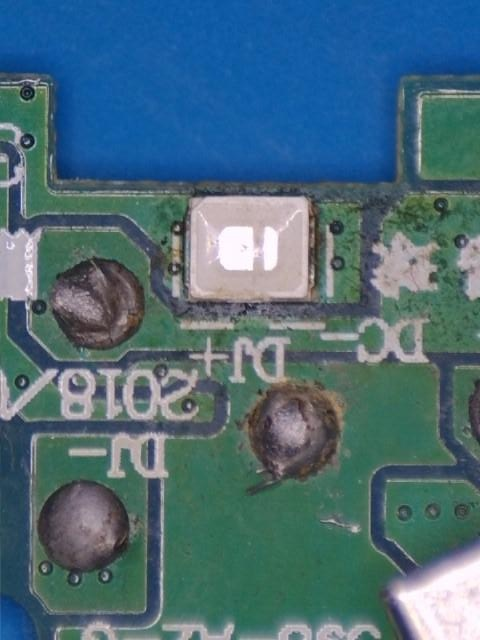pcb_defect: (50, 257, 144, 349), (247, 386, 340, 478), (37, 480, 128, 573)
